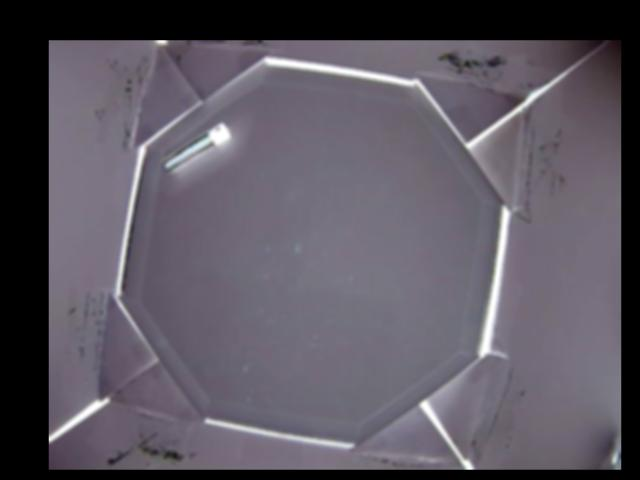Battery: (160, 124, 232, 171)
